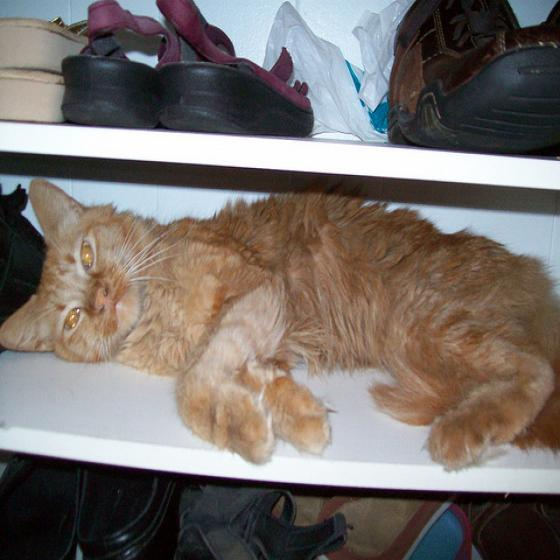cat: (0, 174, 560, 474)
